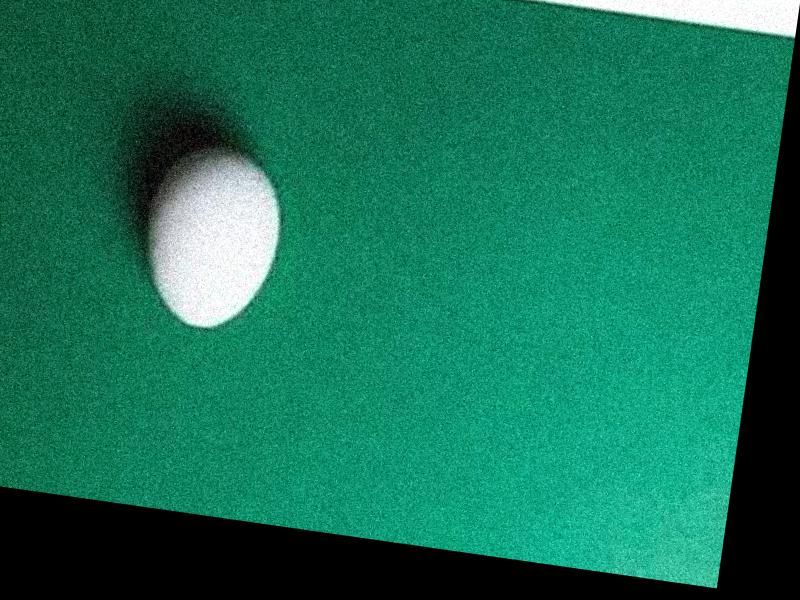Eggs: (139, 138, 295, 335)
